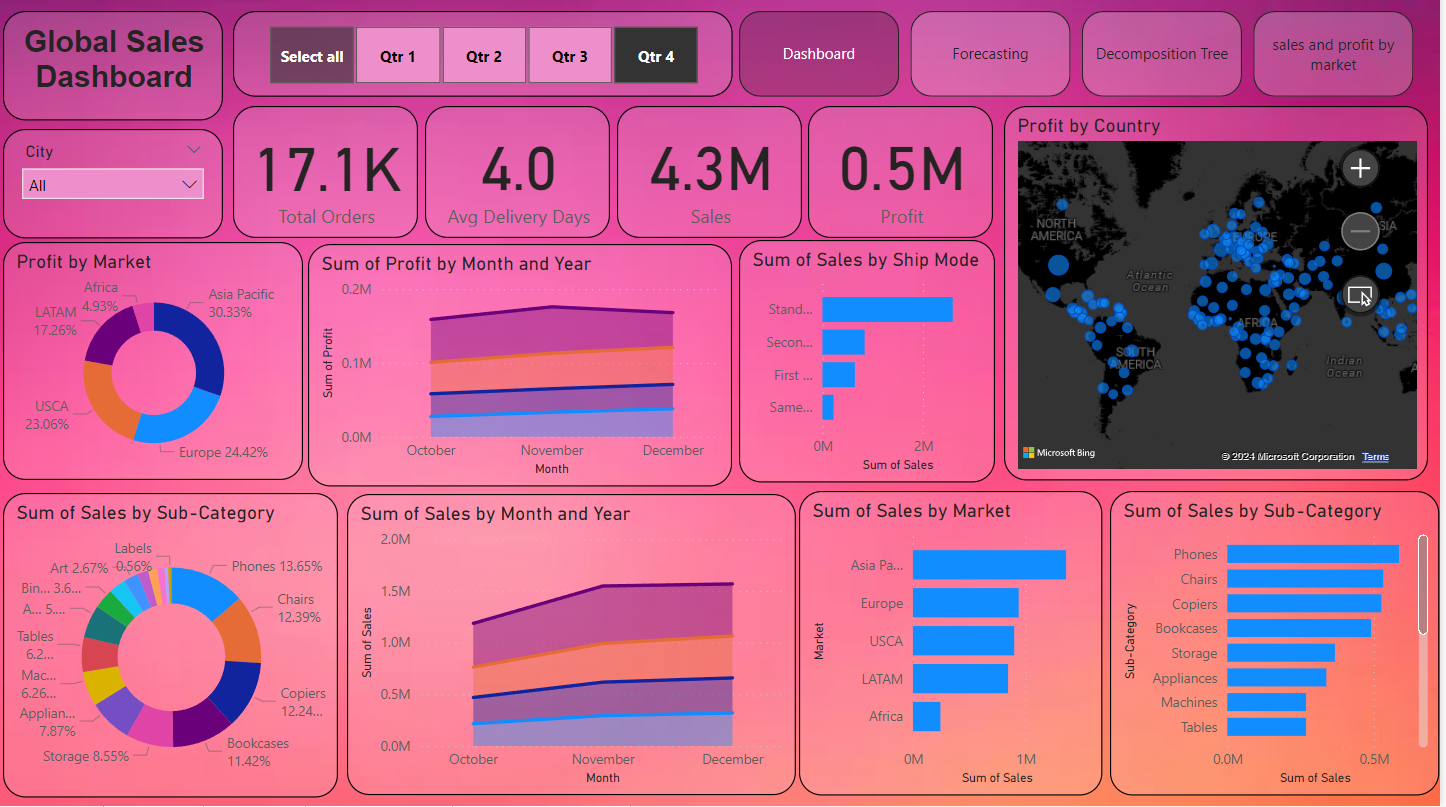

The dashboard page shown, as its layout file describes it:
{"tool":"powerbi","page":{"name":"Dashboard","canvas":[1280,720],"ordinal":0},"visuals":[{"type":"textbox","box":[6.2,15.1,195.1,96.7],"z":0},{"type":"card","fields":{"Values":["CountNonNull(Orders.Order ID)"]},"box":[210.1,99.3,164,117],"z":1000},{"type":"card","fields":{"Values":["Avg(Orders.Custom)"]},"box":[380.3,99.2,164.4,116.7],"z":2000},{"type":"card","fields":{"Values":["Sum(Orders.Profit)"]},"box":[719.8,99.2,164.4,116.7],"z":3000},{"type":"card","fields":{"Values":["Sum(Orders.Sales)"]},"box":[550.5,99.2,164.4,116.7],"z":4000},{"type":"map","fields":{"Size":["Sum(Orders.Profit)"],"Category":["Orders.Country"]},"box":[893.9,99.2,376.4,331.7],"z":5000},{"type":"donutChart","fields":{"Category":["Orders.Market"],"Y":["Sum(Orders.Profit)"]},"box":[5.8,219.8,265.5,211.1],"z":6000},{"type":"donutChart","fields":{"Category":["Orders.Sub-Category"],"Y":["Sum(Orders.Sales)"]},"box":[5.8,442.6,296.7,270.4],"z":7000},{"type":"clusteredBarChart","fields":{"Category":["Orders.Ship Mode"],"Y":["Sum(Orders.Sales)"]},"box":[658.5,217.9,226.6,215],"z":8000},{"type":"clusteredBarChart","fields":{"Y":["Sum(Orders.Sales)"],"Category":["Orders.Market"]},"box":[712,440.6,269.4,270.4],"z":9000},{"type":"stackedAreaChart","fields":{"Y":["Sum(Orders.Sales)"],"Series":["Orders.Order Date.Variation.Date Hierarchy.Year"],"Category":["Orders.Order Date.Variation.Date Hierarchy.Month"]},"box":[311.2,443.5,397.8,267.5],"z":10000},{"type":"stackedAreaChart","fields":{"Series":["Orders.Order Date.Variation.Date Hierarchy.Year"],"Category":["Orders.Order Date.Variation.Date Hierarchy.Month"],"Y":["Sum(Orders.Profit)"]},"box":[276.2,221.8,376.4,215],"z":11000},{"type":"clusteredBarChart","fields":{"Y":["Sum(Orders.Sales)"],"Category":["Orders.Sub-Category"]},"box":[988.2,440.6,291.8,270.4],"z":12000},{"type":"pageNavigator","box":[658.8,15.1,600.3,76.3],"z":12001},{"type":"slicer","fields":{"Values":["Orders.Order Date.Variation.Date Hierarchy.Quarter"]},"box":[210.1,15.1,443.3,76.3],"z":12002},{"type":"slicer","fields":{"Values":["Orders.City"]},"box":[6.2,119.7,195.1,96.7],"z":12003}]}

Visuals, with their boxes in screenshot pixels (x1, y1, x2, y2), scaled from the page's 1280x720 canvas onto the 1446x807 screenshot:
textbox: (7, 17, 227, 125)
card - CountNonNull(Orders.Order ID): (237, 111, 423, 242)
card - Avg(Orders.Custom): (430, 111, 615, 242)
card - Sum(Orders.Profit): (813, 111, 999, 242)
card - Sum(Orders.Sales): (622, 111, 808, 242)
map - Sum(Orders.Profit) x Orders.Country: (1010, 111, 1435, 483)
donutChart - Orders.Market x Sum(Orders.Profit): (7, 246, 306, 483)
donutChart - Orders.Sub-Category x Sum(Orders.Sales): (7, 496, 342, 799)
clusteredBarChart - Orders.Ship Mode x Sum(Orders.Sales): (744, 244, 1000, 485)
clusteredBarChart - Sum(Orders.Sales) x Orders.Market: (804, 494, 1109, 797)
stackedAreaChart - Sum(Orders.Sales) x Orders.Order Date.Variation.Date Hierarchy.Year: (352, 497, 801, 797)
stackedAreaChart - Orders.Order Date.Variation.Date Hierarchy.Year x Orders.Order Date.Variation.Date Hierarchy.Month: (312, 249, 737, 490)
clusteredBarChart - Sum(Orders.Sales) x Orders.Sub-Category: (1116, 494, 1445, 797)
pageNavigator: (744, 17, 1422, 102)
slicer - Orders.Order Date.Variation.Date Hierarchy.Quarter: (237, 17, 738, 102)
slicer - Orders.City: (7, 134, 227, 243)
